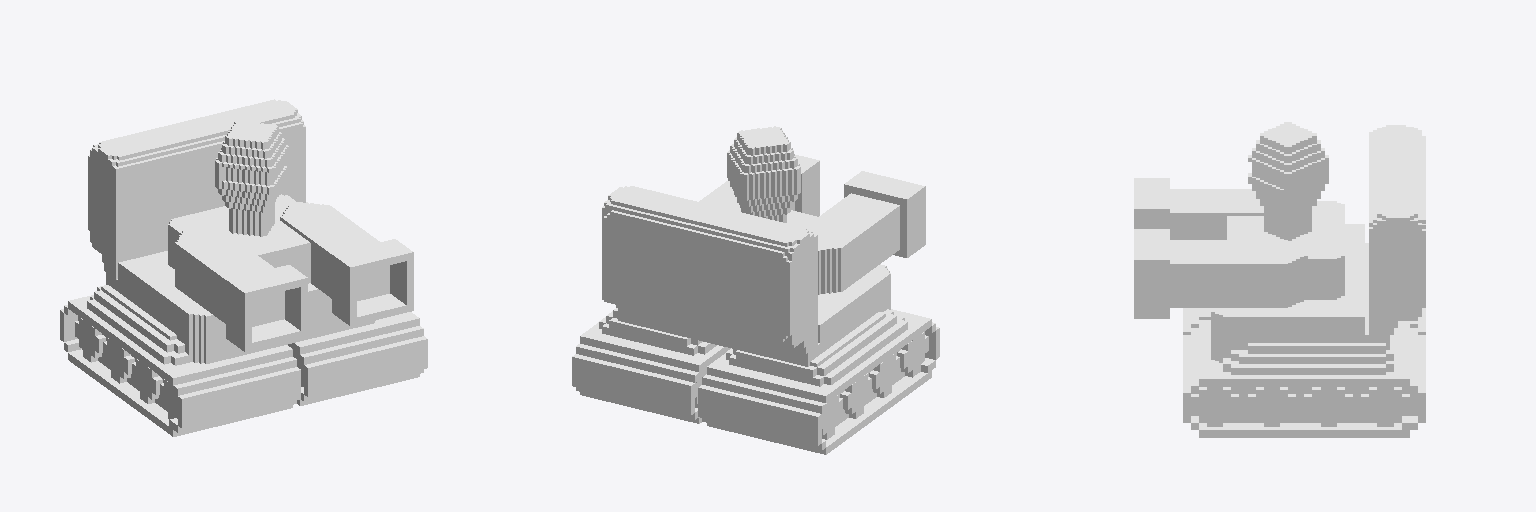
Rendered from megaTankVermelho.obj.
3 views of the same model, side by side, from view 1: azimuth 30°, elevation 25°; view 2: azimuth 150°, elevation 25°; view 3: azimuth 270°, elevation 25° (orthographic).
Visible parts, largest first — view 1: object 1; view 2: object 1; view 3: object 1.
Part boxes in pixels (left/top/right/bottom): object 1: left=60, top=99, right=427, bottom=436; object 1: left=572, top=126, right=939, bottom=454; object 1: left=1134, top=122, right=1425, bottom=437.
Bounding box in the file's own units: 7 × 6.6 × 7.2.